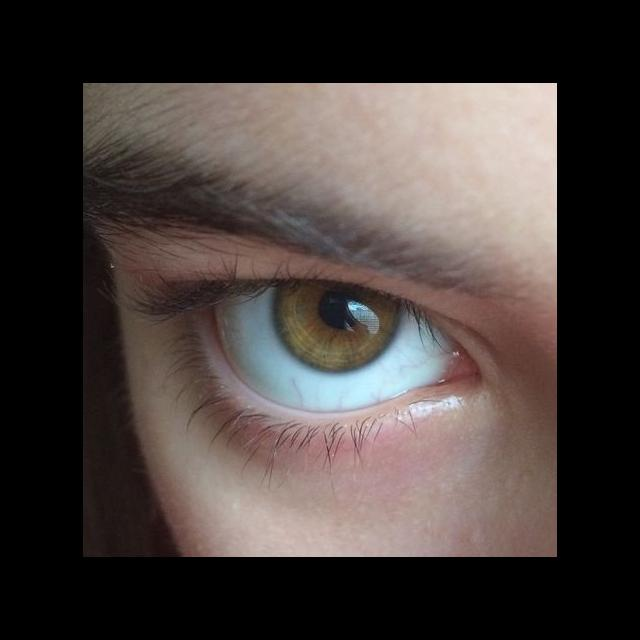eye: (213, 284, 458, 419)
iris: (275, 288, 401, 373)
